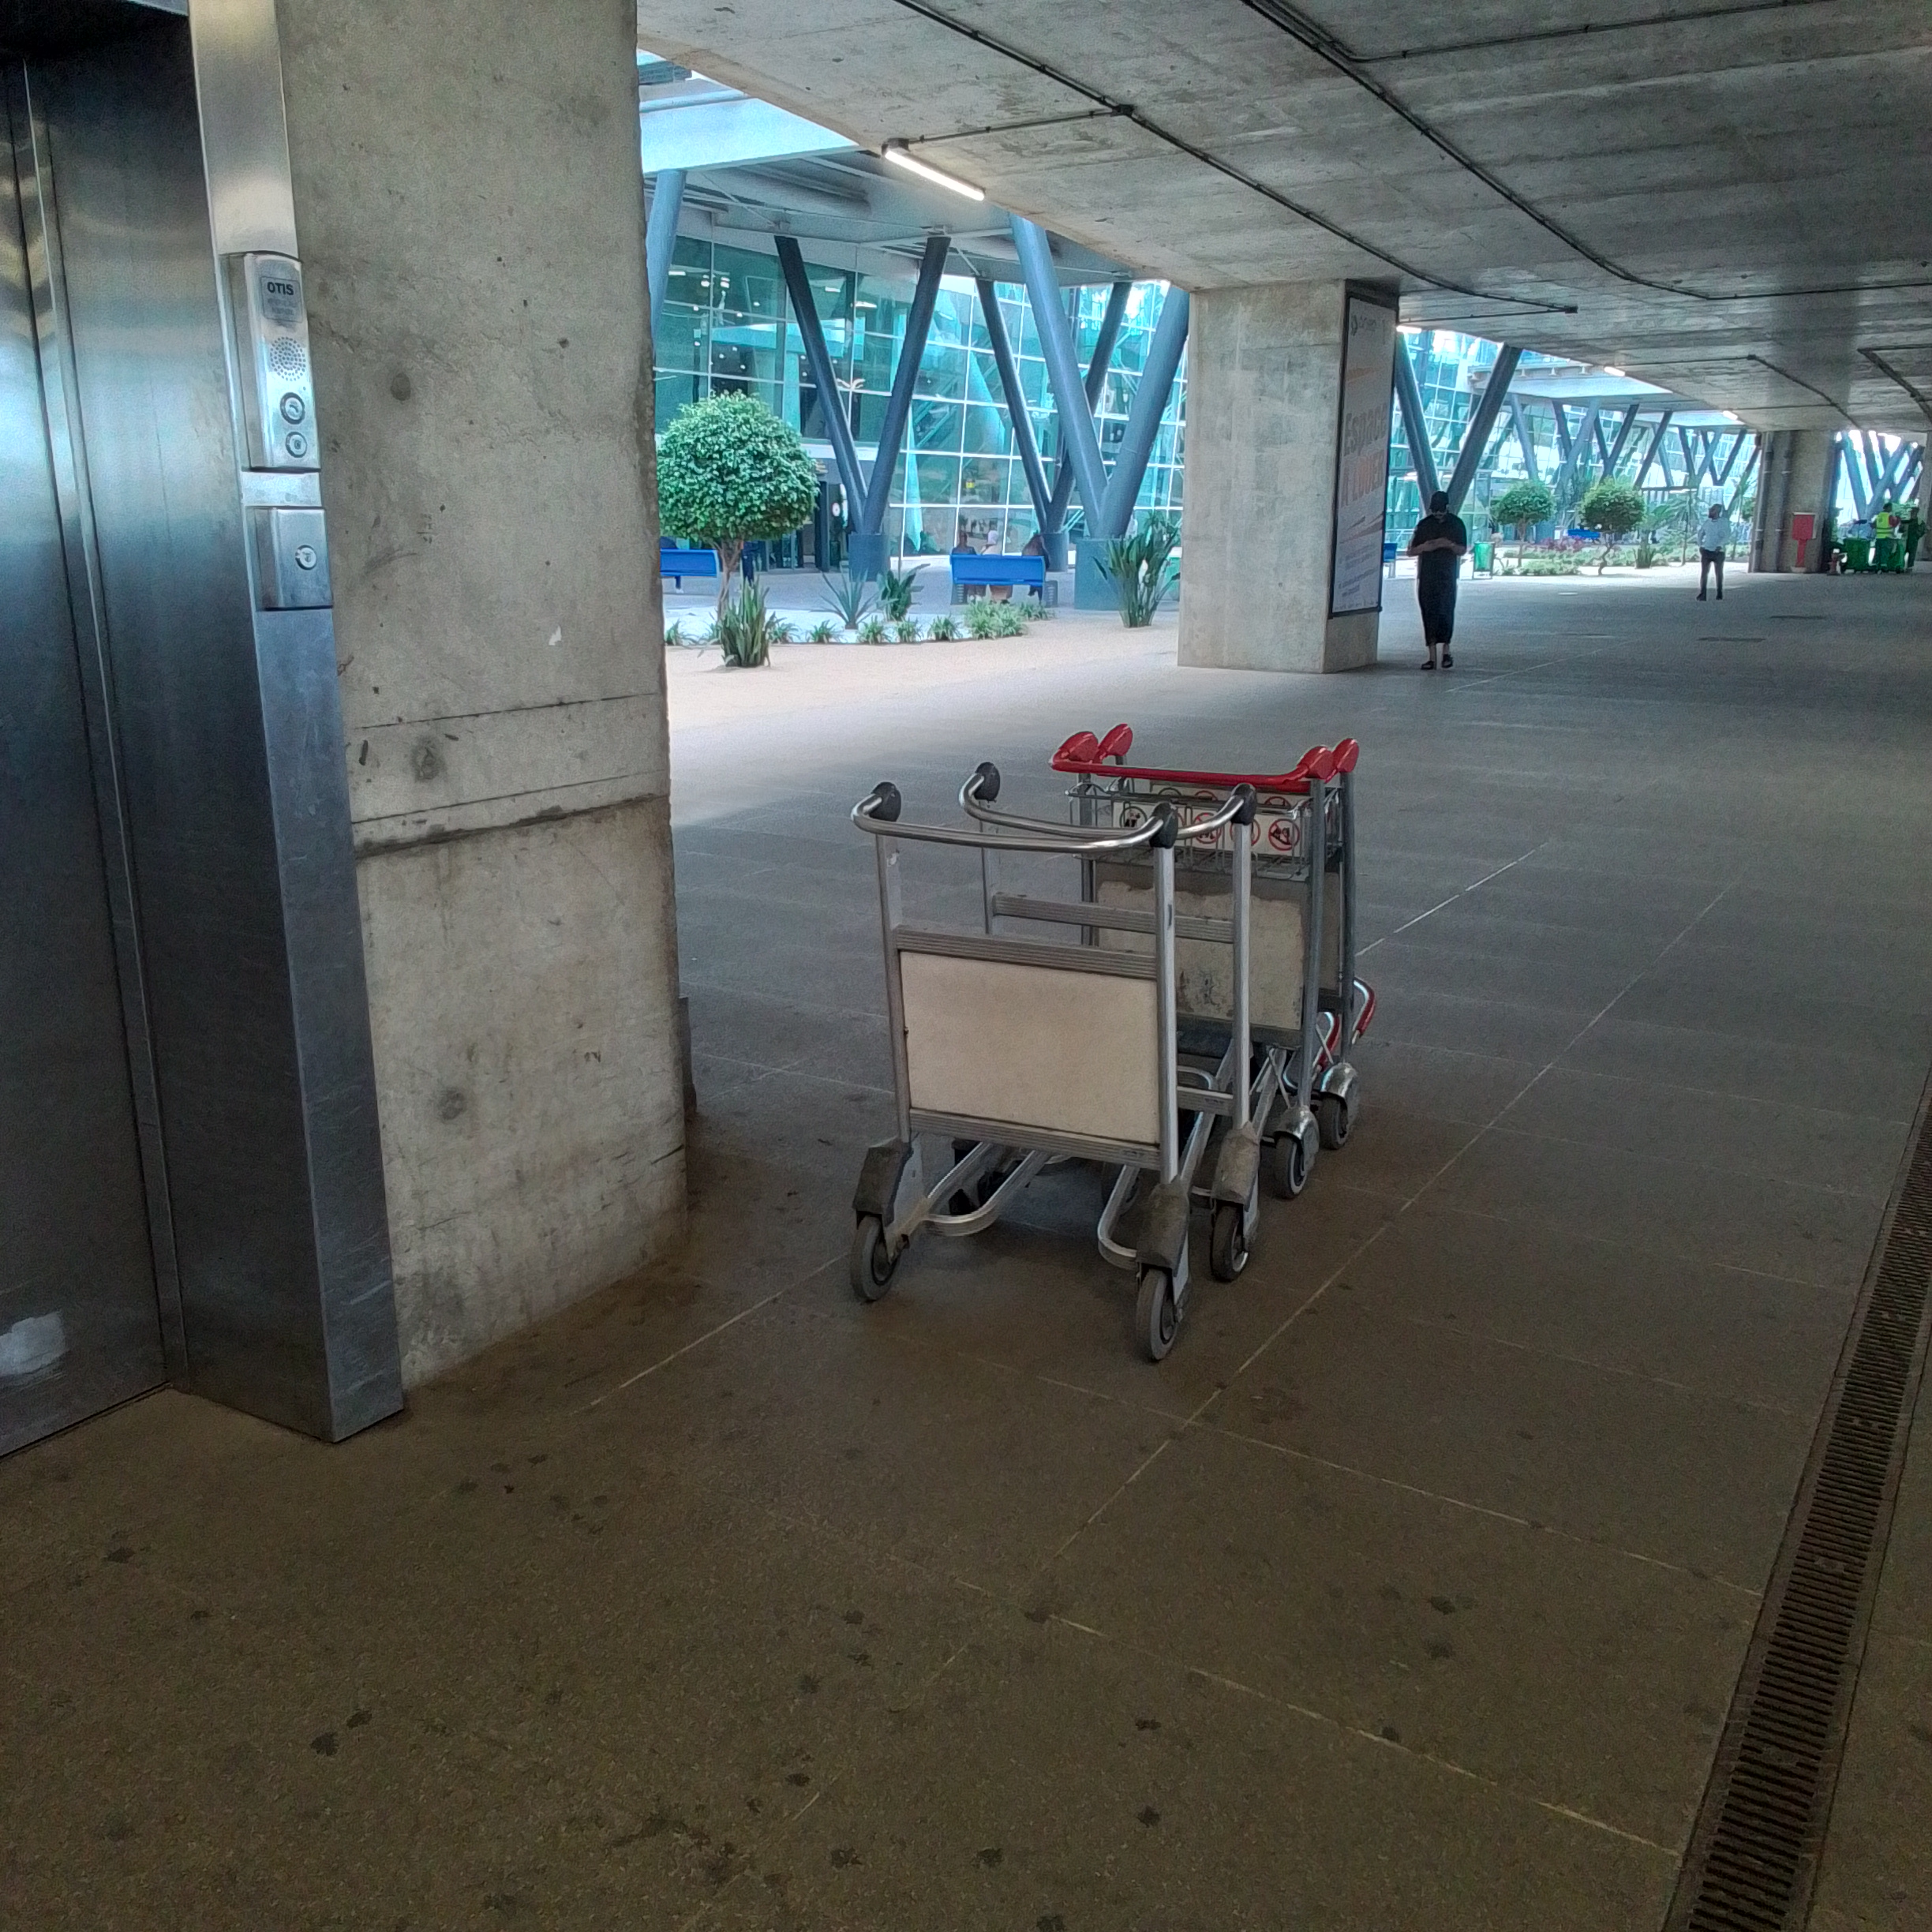airport-trolley: (847, 778, 1192, 1384), (929, 778, 1253, 1345), (1051, 725, 1318, 1210)
